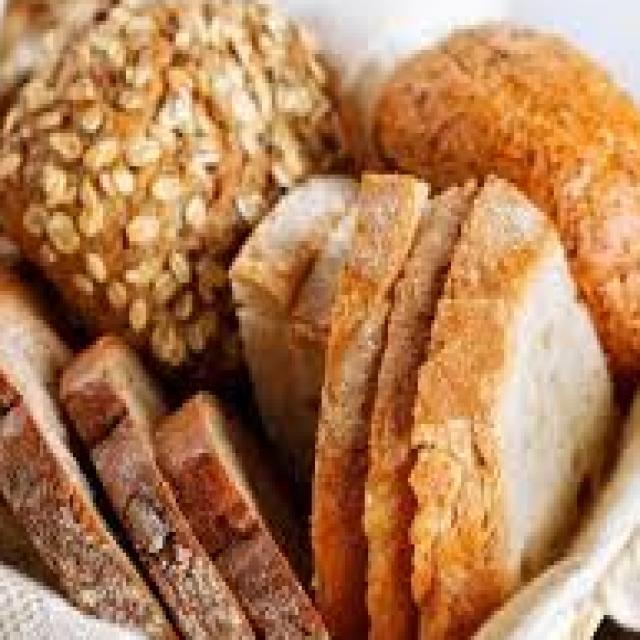inorganic: (7, 0, 639, 639)
